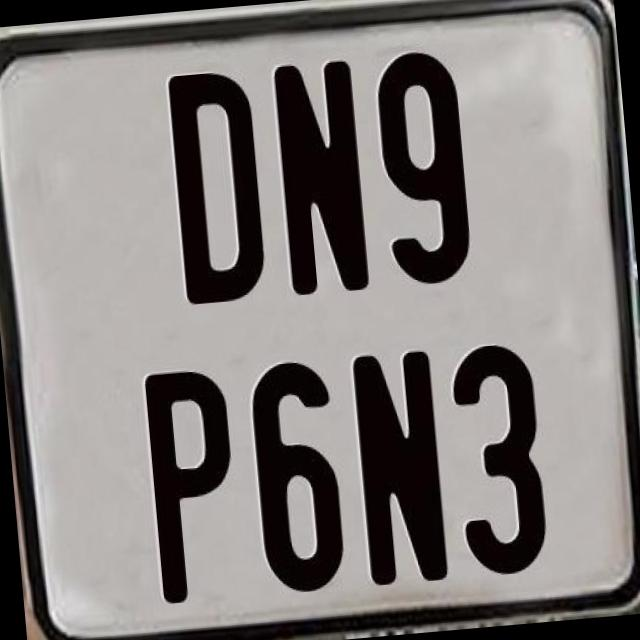3: (447, 340, 551, 582)
6: (248, 358, 348, 596)
9: (369, 44, 472, 286)
D: (165, 68, 268, 306)
N: (268, 56, 368, 300), (350, 348, 452, 586)
P: (139, 362, 245, 600)
